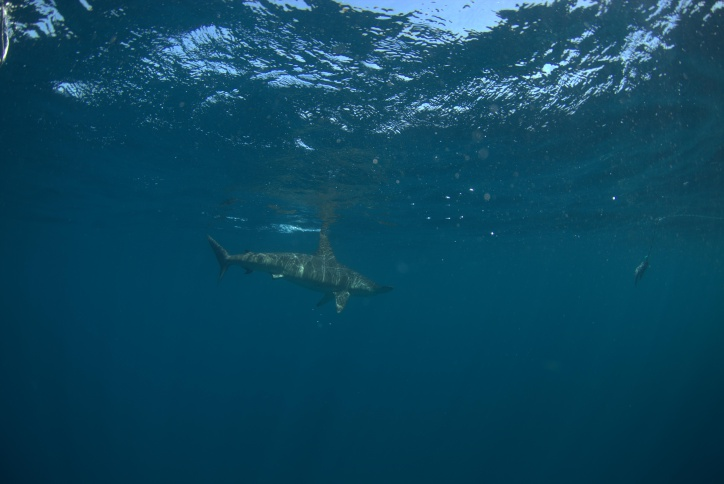Hammer: (194, 227, 417, 329)
